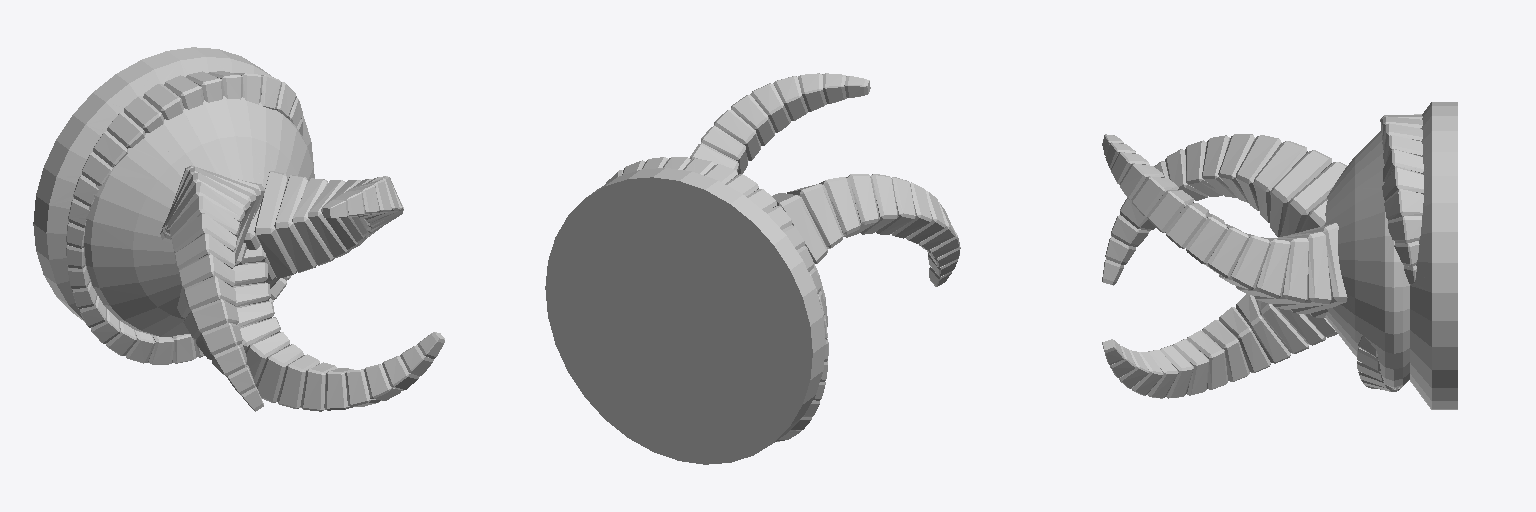
Rendered from Alien-Pawn.obj.
The picture shows the model from 3 angles: view 1: azimuth 30°, elevation 25°; view 2: azimuth 150°, elevation 25°; view 3: azimuth 270°, elevation 25°; orthographic projection.
Bounding box in the file's own units: 28 × 28 × 32.2.